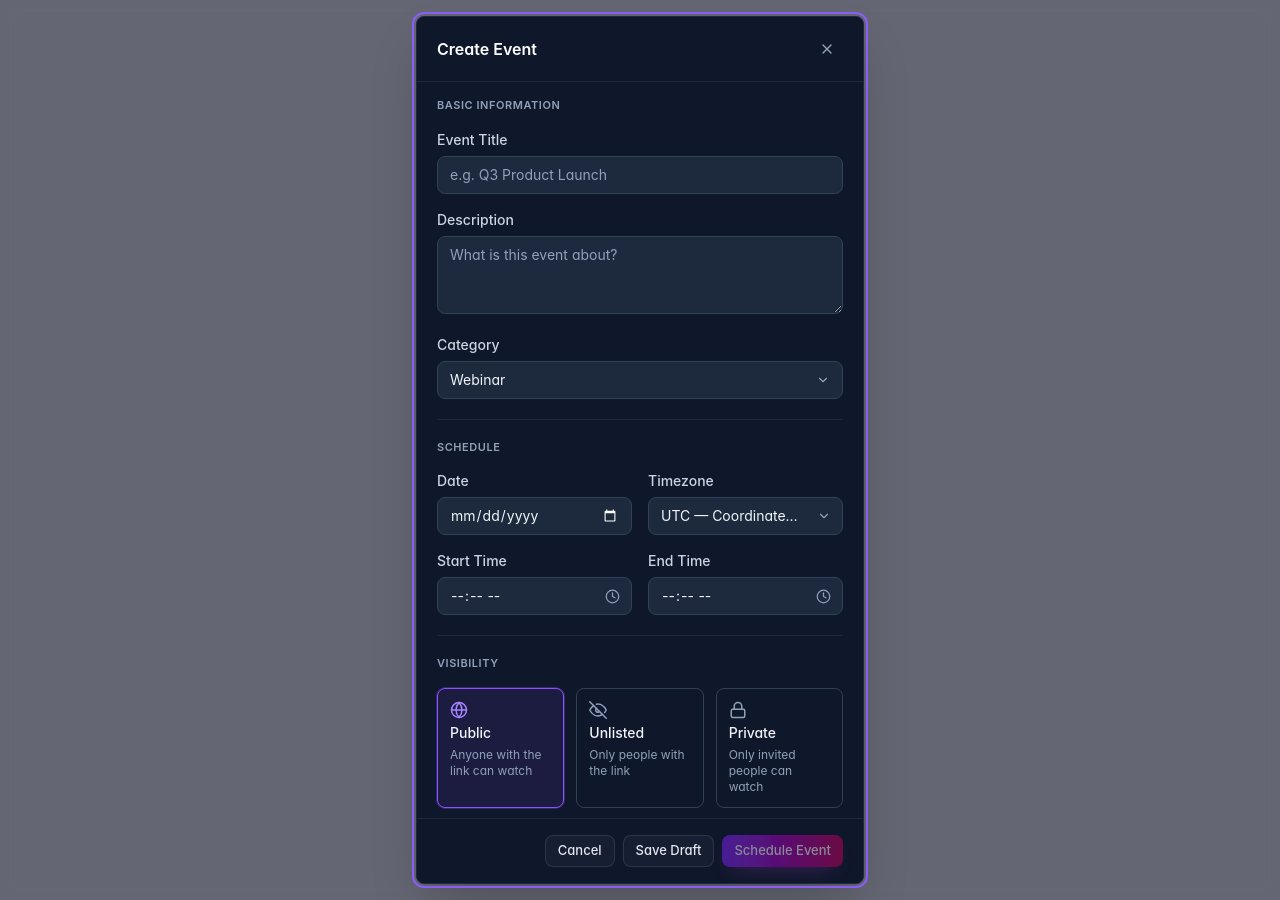
Test case: opening › shows every option on the click that opens it: nothing to wait for, no empty panel
Click the dropdown named "Category".
click(478, 379)  # box x1=437 y1=361 x2=843 y2=399
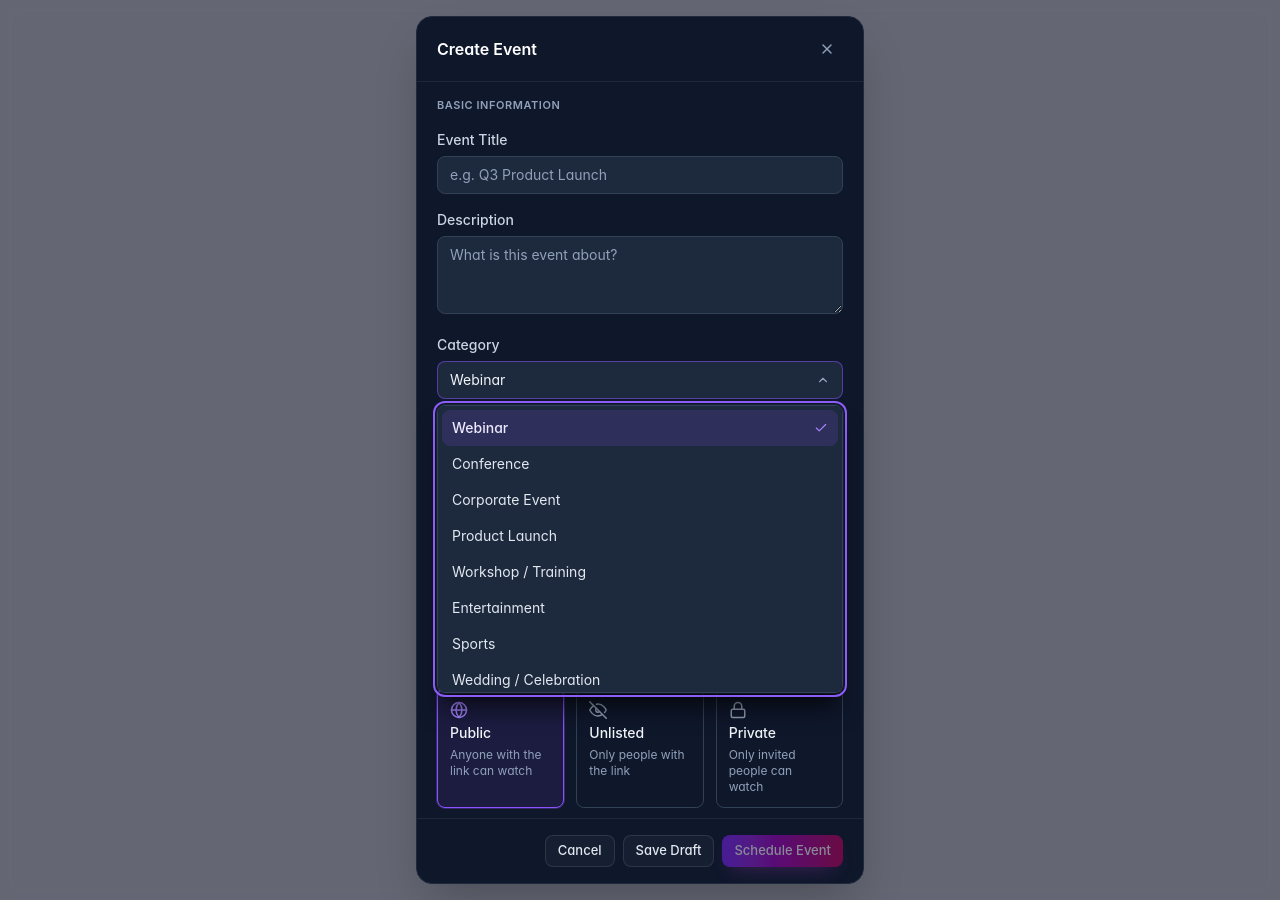
Now the dropdown named "Category" is expanded, box x1=437 y1=361 x2=843 y2=399
